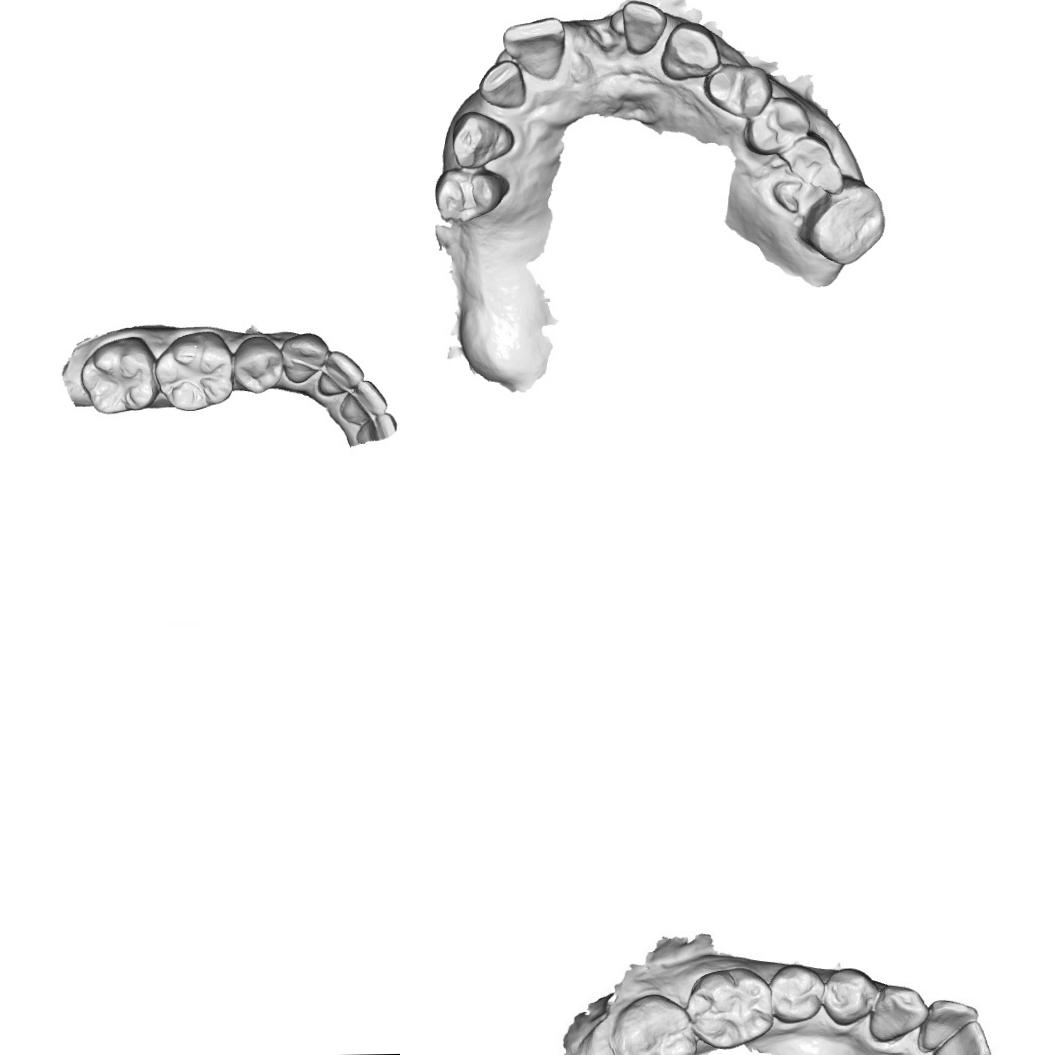canine: (449, 110, 514, 170), (660, 22, 720, 82), (868, 986, 926, 1042), (278, 331, 329, 386)
incisor: (503, 16, 566, 81), (915, 997, 980, 1055), (620, 0, 667, 57), (316, 349, 367, 397), (478, 59, 525, 110), (338, 379, 389, 424), (933, 1018, 993, 1055)
molar: (796, 174, 888, 267), (154, 328, 235, 413), (76, 335, 158, 416), (690, 970, 773, 1044), (609, 990, 697, 1055)
premolar: (432, 166, 509, 223), (742, 98, 813, 155), (703, 60, 770, 118), (232, 334, 284, 396), (772, 962, 824, 1024), (827, 964, 875, 1020)
